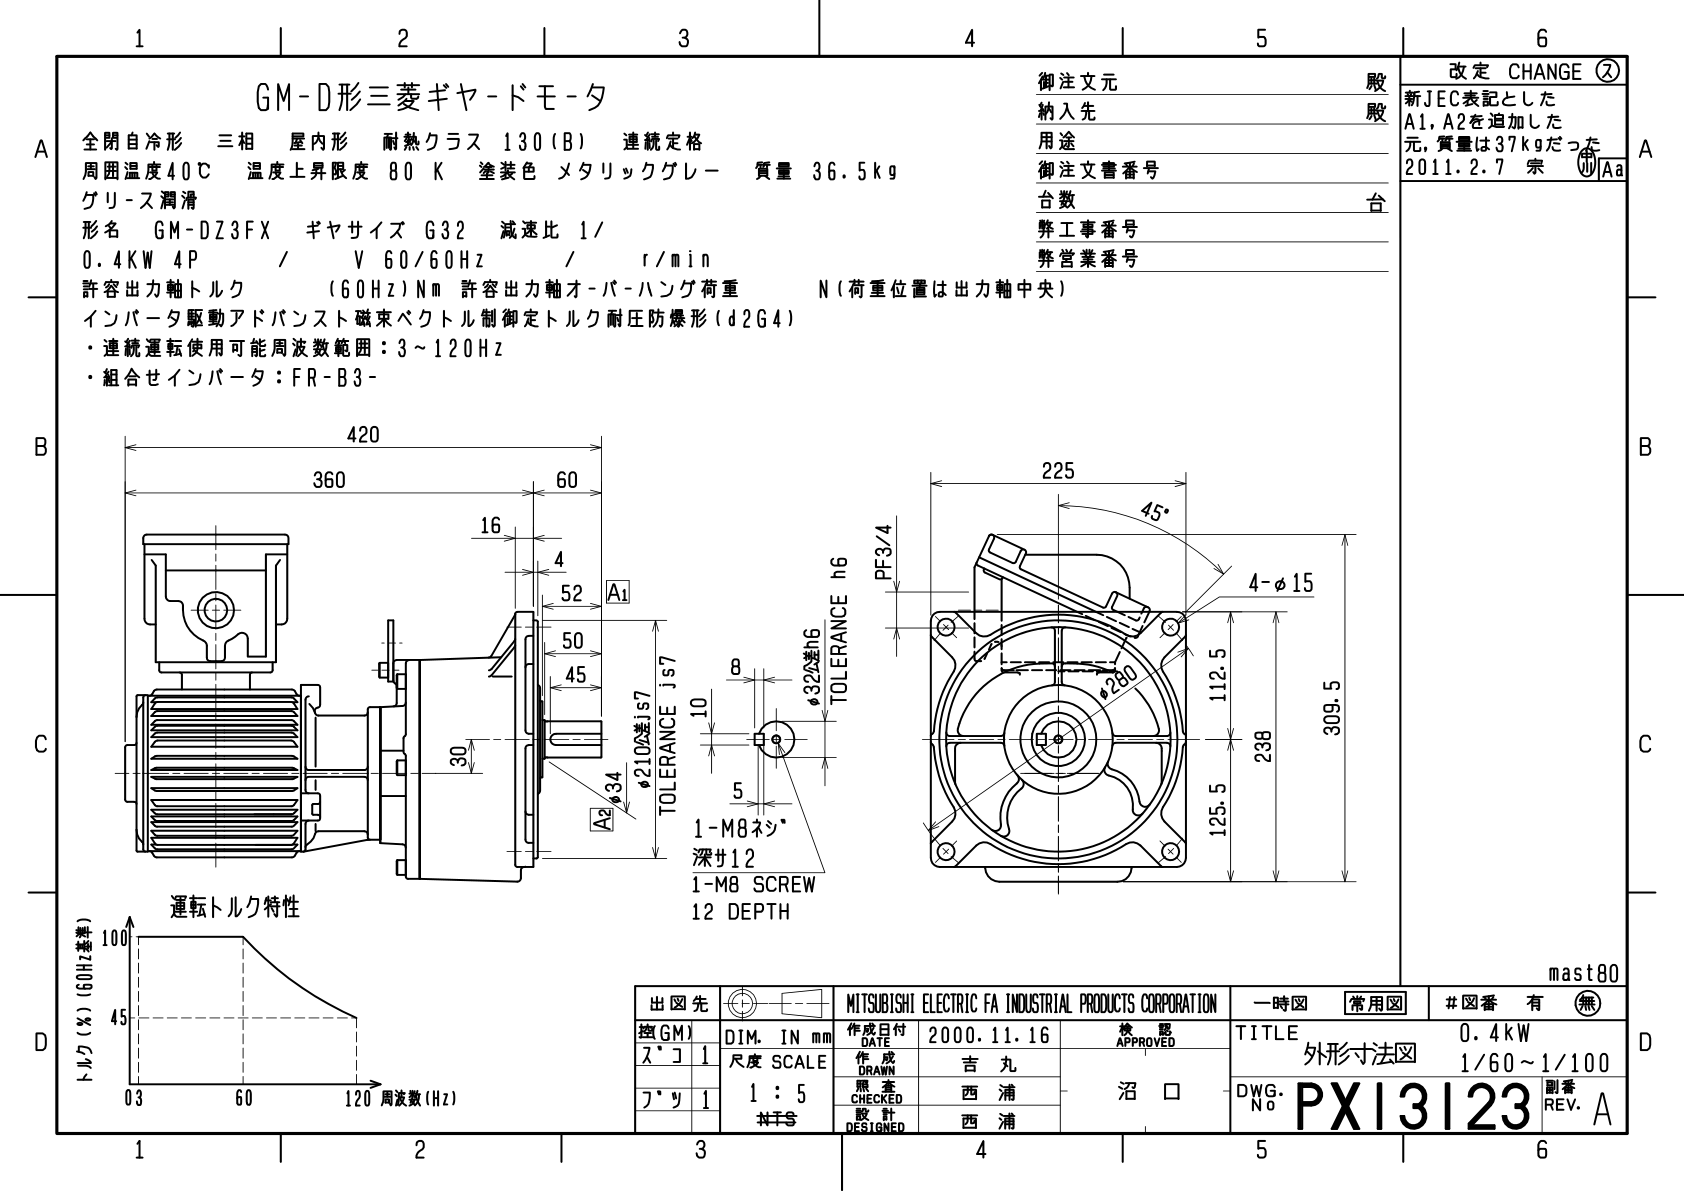GM_D_制御屋内_三相_フランジ: (8, 9, 1672, 1191)
